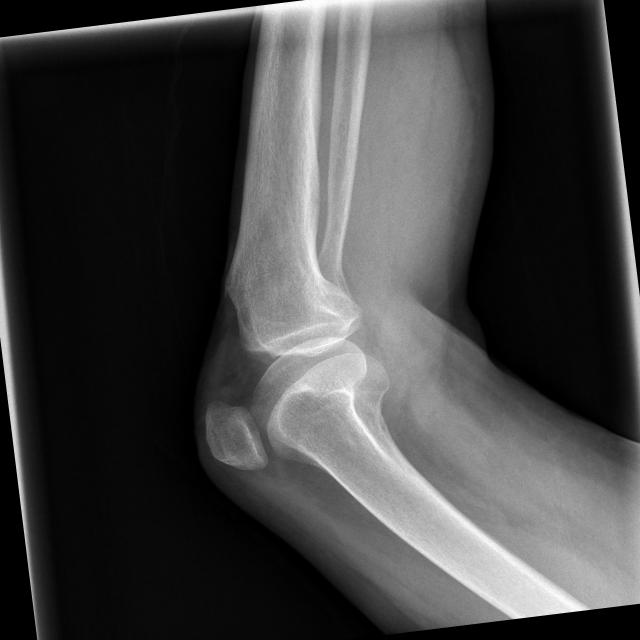Knee: (180, 268, 401, 478)
